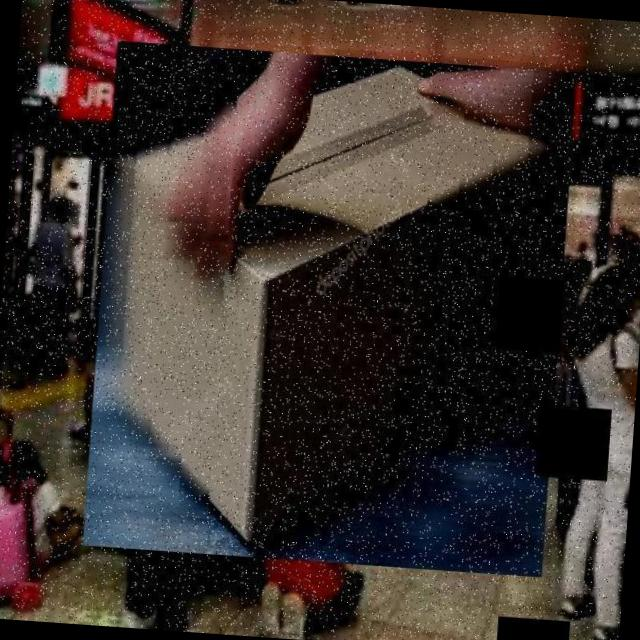box: (75, 32, 586, 586)
